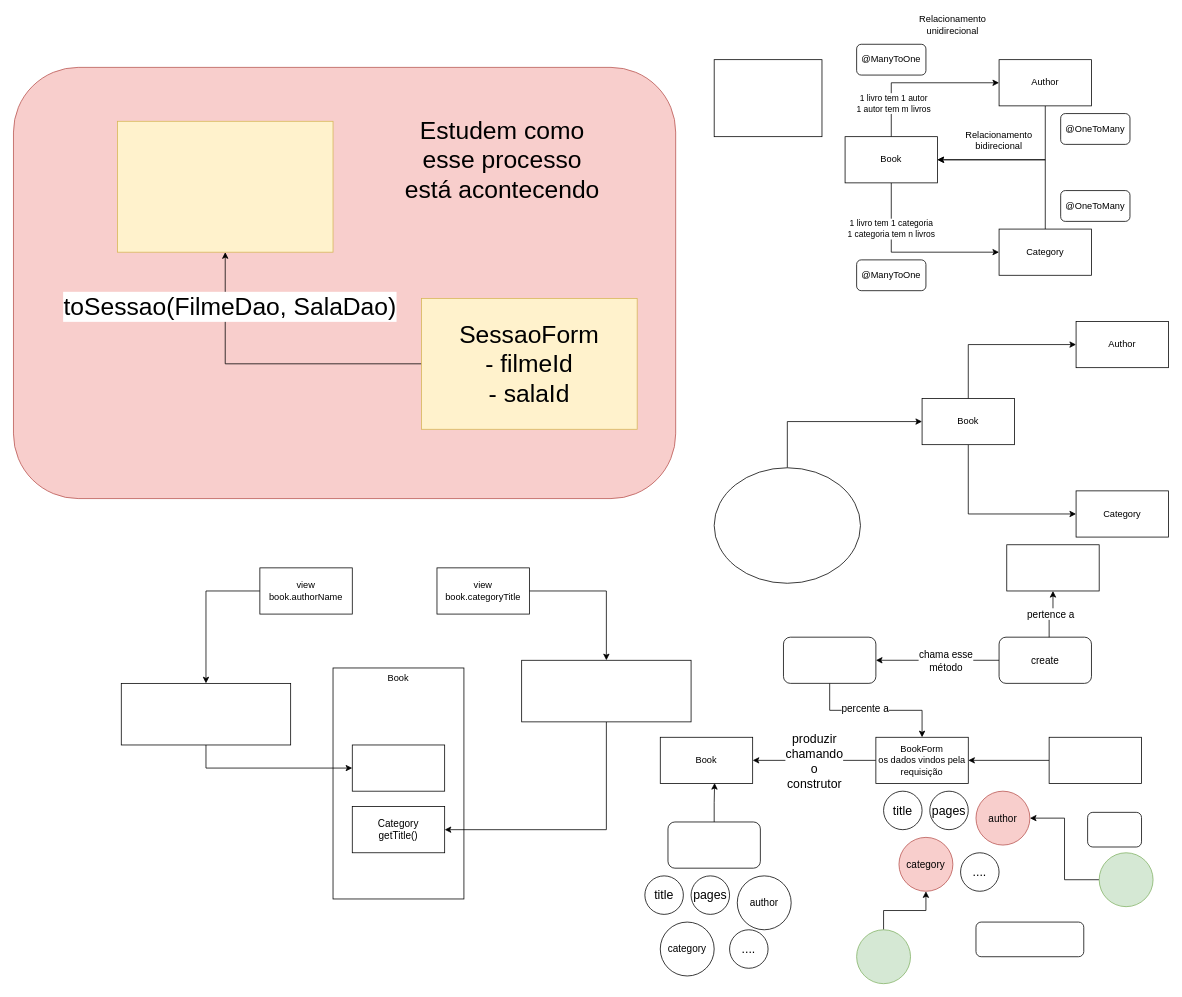
The diagram is 1182 pixels wide and 997 high, and some of its shapes have lost their labels. The shapes that lost their labels are listed below. From the top down, each one's centre as x and y in pixels, then its label:
At pixel 767 98: "1:1 @OneToOne 1:N @OneToMany N:1 @ManyToOne N:M @ManyToMany".
At pixel 225 186: "Sessao - filme - sala".
At pixel 786 525: "construtor todos os atributos necessários para construir o objeto".
At pixel 1052 567: "BookController".
At pixel 829 659: "build()".
At pixel 606 691: "public String getCategoryTitle() { return this.category.getTitle(); }".
At pixel 206 714: "public String getAuthorName() { return this.author.getName(); }".
At pixel 398 767: "Author getName()".
At pixel 1095 760: "Formulário de livro form.jsp".
At pixel 713 844: "construtor parâmetros".
At pixel 1114 829: "AuthorDao".
At pixel 1125 879: "authorId".
At pixel 883 956: "categoryId".
At pixel 1029 939: "CategoryDao findOne(categoryId)".
